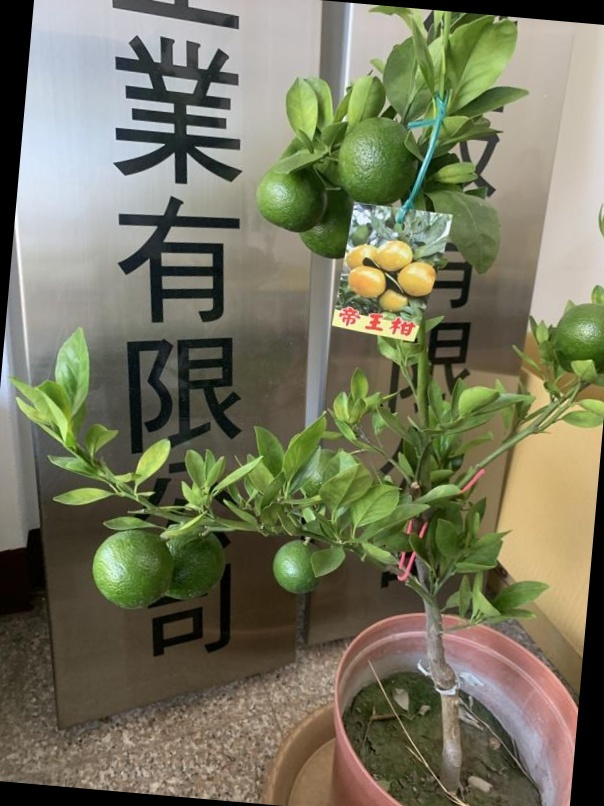Tangerine: (83, 522, 177, 612), (340, 112, 421, 205), (252, 147, 327, 235), (162, 531, 227, 601), (552, 296, 603, 376), (274, 535, 326, 597)
